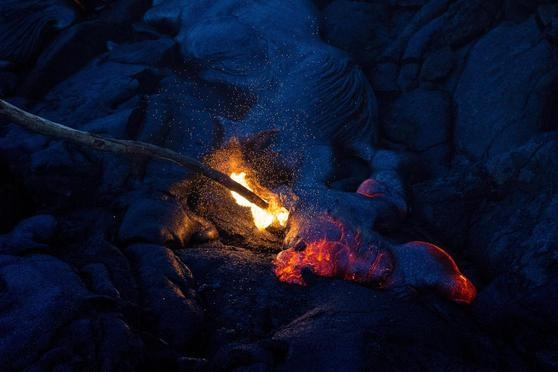fire: (226, 170, 289, 232)
